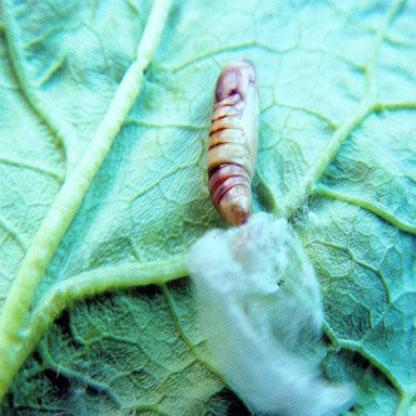armyworm: (208, 50, 262, 221)
